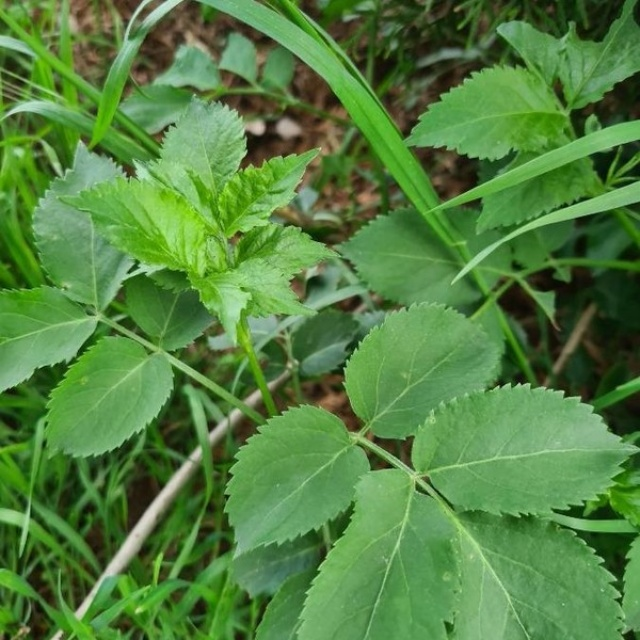obstacle: (54, 89, 556, 606)
